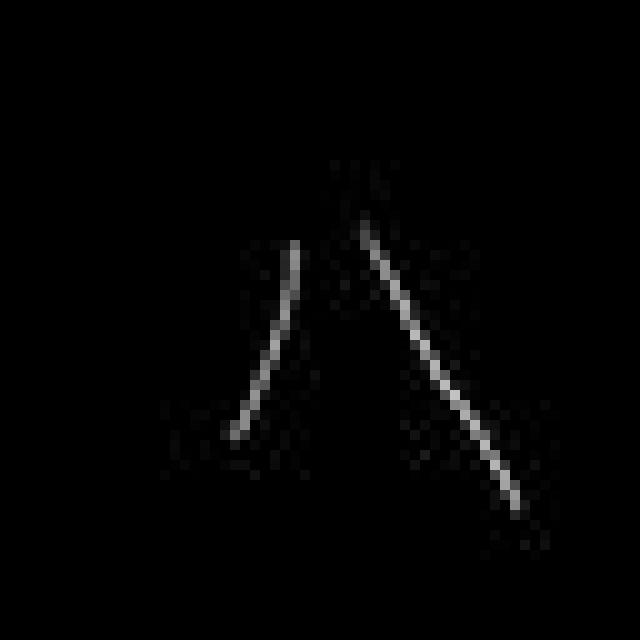8 -eight-: (214, 224, 540, 532)
